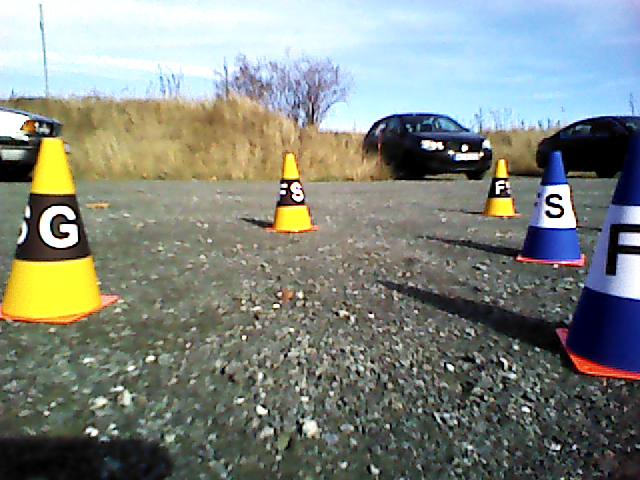bluecone: (570, 121, 640, 369), (522, 152, 582, 255)
yellowcone: (4, 139, 99, 314), (274, 153, 312, 229), (485, 159, 514, 215)
